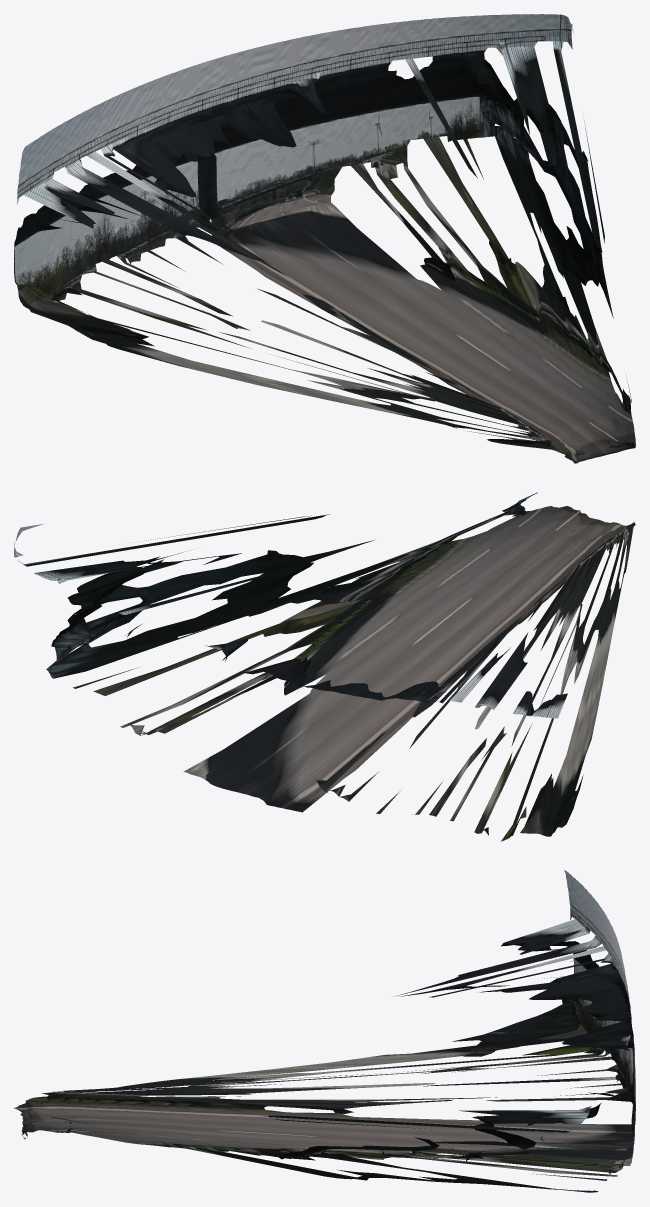
The picture shows the model from 3 angles, top to bottom: view 1: azimuth 30°, elevation 25°; view 2: azimuth 150°, elevation 25°; view 3: azimuth 270°, elevation 25°; orthographic projection. The views are drawn at different scales.
Parts seen in each view (by area): view 1: defaultobject; view 2: defaultobject; view 3: defaultobject.
Part boxes in pixels (bbox=[...]): defaultobject: bbox=[14, 14, 635, 463]; defaultobject: bbox=[14, 492, 635, 841]; defaultobject: bbox=[14, 870, 635, 1192].
Size of the model in its own units: 40.88 by 13.52 by 44.8.
Materials: 1 (1 with a texture image).
